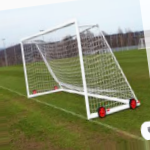goals: (18, 18, 139, 119)
